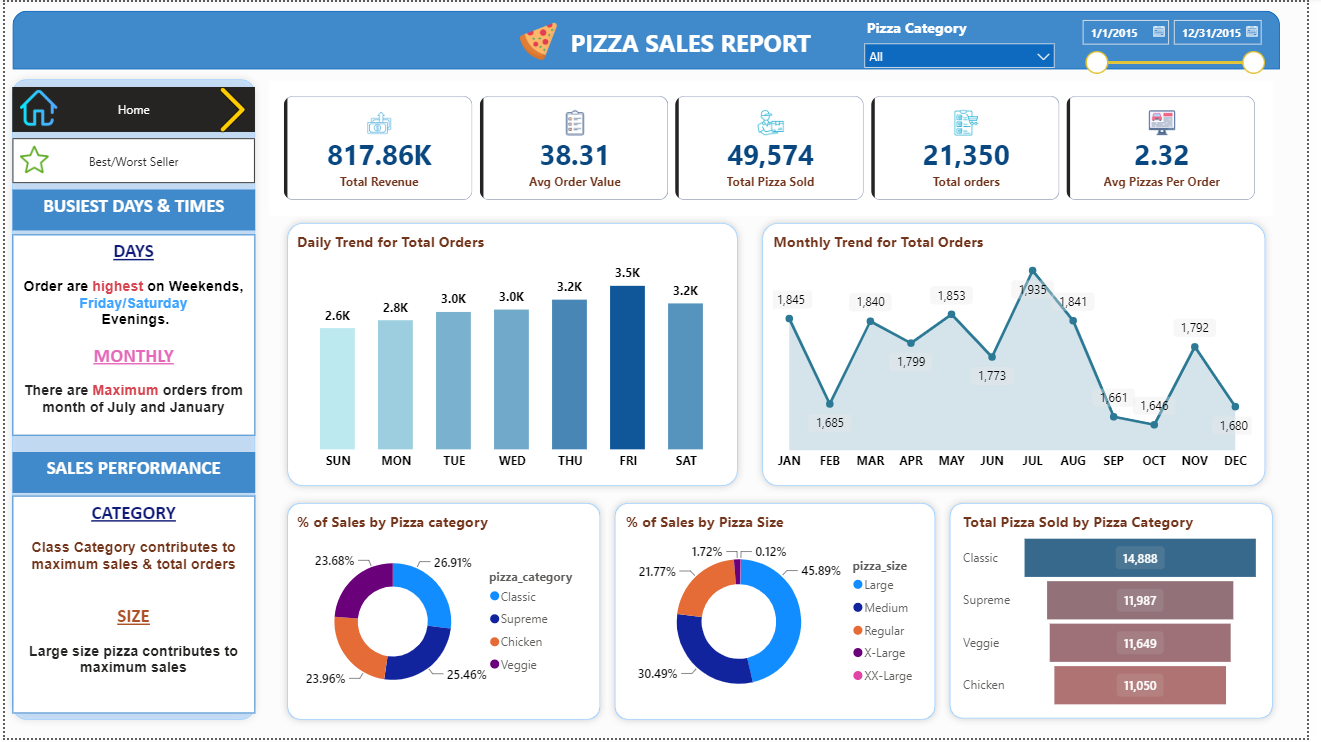

The dashboard page shown, as its layout file describes it:
{"tool":"powerbi","page":{"name":"Home","canvas":[1450,820],"ordinal":0},"visuals":[{"type":"shape","box":[8.4,9.7,1412.2,65.5],"z":0},{"type":"shape","box":[0,78,286.9,729.8],"z":1000},{"type":"cardVisual","fields":{"Data":["All Measures.Total Revenue","All Measures.Avg Order Value","All Measures.Total Pizza Sold","All Measures.Total orders","All Measures.Avg Pizzas Per Order"]},"box":[293.9,87.7,1118.3,150.4],"z":2000},{"type":"textbox","box":[608.6,22.3,310.6,52.9],"z":3000},{"type":"image","box":[565.4,22.3,57.1,43.2],"z":4000},{"type":"shape","box":[306.4,238.1,518.1,309.2],"z":5000},{"type":"columnChart","title":"Daily Trend for Total Orders","fields":{"Category":["pizza_sales.Order Day"],"Y":["All Measures.Total orders"]},"box":[320.3,254.9,490.2,275.7],"z":6000},{"type":"shape","box":[835.6,238.1,576.6,309.2],"z":7000},{"type":"areaChart","title":"Monthly Trend for Total Orders","fields":{"Category":["pizza_sales.Order Month"],"Y":["All Measures.Total orders"]},"box":[850.9,254.9,543.1,275.7],"z":8000},{"type":"shape","box":[306.4,550.1,364.9,257.6],"z":9000},{"type":"shape","box":[671.3,550.1,373.2,257.6],"z":10000},{"type":"shape","box":[1044.5,550.1,376,256.3],"z":11000},{"type":"donutChart","title":"% of Sales by Pizza category","fields":{"Category":["pizza_sales.pizza_category"],"Y":["All Measures.Total Revenue"]},"box":[320.3,566.8,332.8,225.6],"z":12000},{"type":"donutChart","title":"% of Sales by Pizza Size","fields":{"Y":["All Measures.Total Revenue"],"Category":["pizza_sales.pizza_size"]},"box":[686.6,566.8,342.6,225.6],"z":13000},{"type":"funnel","title":"Total Pizza Sold by Pizza Category","fields":{"Category":["pizza_sales.pizza_category"],"Y":["All Measures.Total Pizza Sold"]},"box":[1062.6,566.8,341.2,225.6],"z":14000},{"type":"textbox","box":[8.4,208.9,270.2,46],"z":15000},{"type":"textbox","box":[8.4,259,270.2,224.2],"z":16000},{"type":"textbox","box":[8.4,501.4,270.2,46],"z":17000},{"type":"textbox","box":[8.4,550.1,270.2,242.3],"z":18000},{"type":"slicer","fields":{"Values":["pizza_sales.pizza_category"]},"box":[947,12.5,232.6,62.7],"z":19000},{"type":"pageNavigator","box":[8.4,94.7,270.2,50.1],"z":20000},{"type":"pageNavigator","box":[8.4,151.8,270.2,50.1],"z":20500},{"type":"slicer","fields":{"Values":["pizza_sales.order_date"]},"box":[1187.9,9.7,224.2,78],"z":21000},{"type":"image","box":[228.4,94.7,50.1,50.1],"z":23000},{"type":"image","box":[16.7,94.7,41.8,46],"z":24000},{"type":"image","box":[16.7,149,32,52.9],"z":25000}]}

Visuals, with their boxes in screenshot pixels (x1, y1, x2, y2), scaled from the page's 1450x820 canvas onto the 1321x742 screenshot:
shape: {"left": 8, "top": 9, "right": 1294, "bottom": 68}
shape: {"left": 0, "top": 71, "right": 261, "bottom": 731}
cardVisual - All Measures.Total Revenue x All Measures.Avg Order Value: {"left": 268, "top": 79, "right": 1287, "bottom": 215}
textbox: {"left": 554, "top": 20, "right": 837, "bottom": 68}
image: {"left": 515, "top": 20, "right": 567, "bottom": 59}
shape: {"left": 279, "top": 215, "right": 751, "bottom": 495}
"Daily Trend for Total Orders" columnChart: {"left": 292, "top": 231, "right": 738, "bottom": 480}
shape: {"left": 761, "top": 215, "right": 1287, "bottom": 495}
"Monthly Trend for Total Orders" areaChart: {"left": 775, "top": 231, "right": 1270, "bottom": 480}
shape: {"left": 279, "top": 498, "right": 612, "bottom": 731}
shape: {"left": 612, "top": 498, "right": 952, "bottom": 731}
shape: {"left": 952, "top": 498, "right": 1294, "bottom": 730}
"% of Sales by Pizza category" donutChart: {"left": 292, "top": 513, "right": 595, "bottom": 717}
"% of Sales by Pizza Size" donutChart: {"left": 626, "top": 513, "right": 938, "bottom": 717}
"Total Pizza Sold by Pizza Category" funnel: {"left": 968, "top": 513, "right": 1279, "bottom": 717}
textbox: {"left": 8, "top": 189, "right": 254, "bottom": 231}
textbox: {"left": 8, "top": 234, "right": 254, "bottom": 437}
textbox: {"left": 8, "top": 454, "right": 254, "bottom": 495}
textbox: {"left": 8, "top": 498, "right": 254, "bottom": 717}
slicer - pizza_sales.pizza_category: {"left": 863, "top": 11, "right": 1075, "bottom": 68}
pageNavigator: {"left": 8, "top": 86, "right": 254, "bottom": 131}
pageNavigator: {"left": 8, "top": 137, "right": 254, "bottom": 183}
slicer - pizza_sales.order_date: {"left": 1082, "top": 9, "right": 1286, "bottom": 79}
image: {"left": 208, "top": 86, "right": 254, "bottom": 131}
image: {"left": 15, "top": 86, "right": 53, "bottom": 127}
image: {"left": 15, "top": 135, "right": 44, "bottom": 183}
